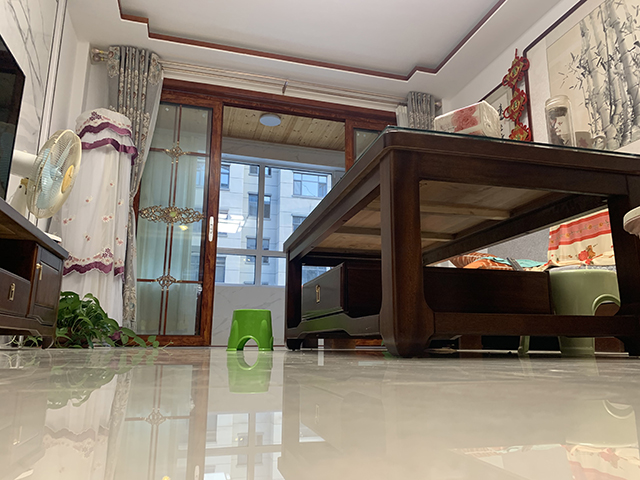cabinet: (1, 197, 71, 350)
curtain: (106, 45, 164, 336)
stool: (551, 268, 621, 358), (224, 308, 276, 352)
table: (282, 124, 640, 361)
